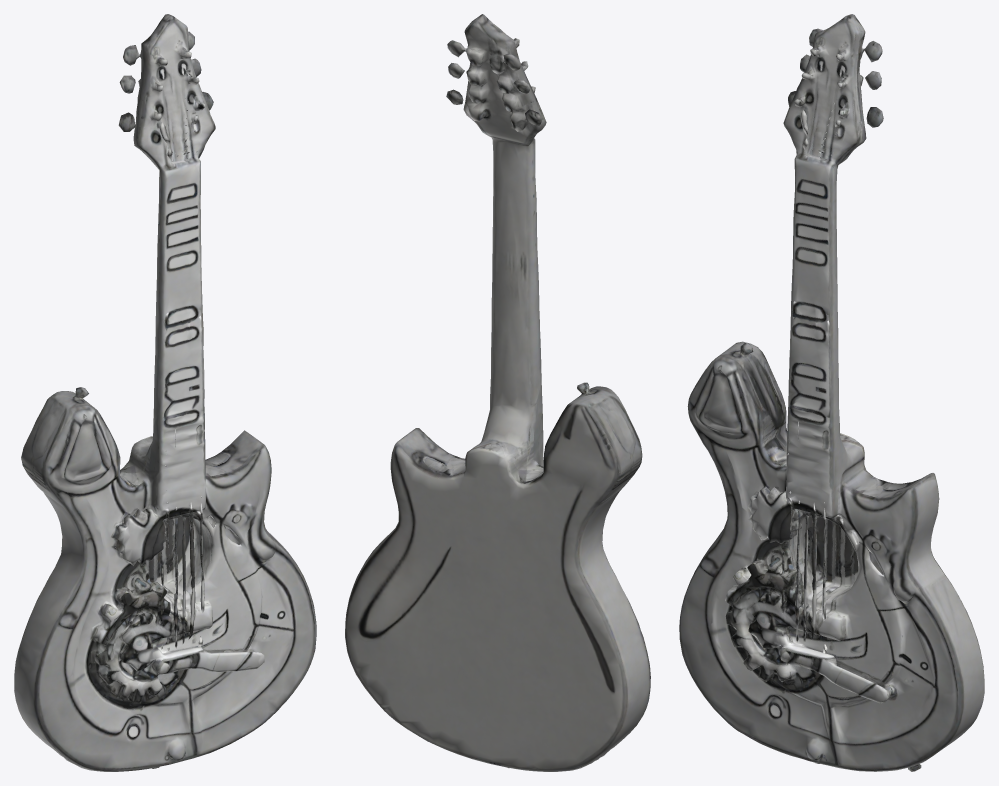
The model's file is guitarra_01.glb.
The picture shows the model from 3 angles, left to right: view 1: azimuth 30°, elevation 25°; view 2: azimuth 150°, elevation 25°; view 3: azimuth 330°, elevation 25°; orthographic projection.
Bounding box in the file's own units: 0.7949 × 2 × 0.1801.
Materials: 1 (1 with a texture image).
